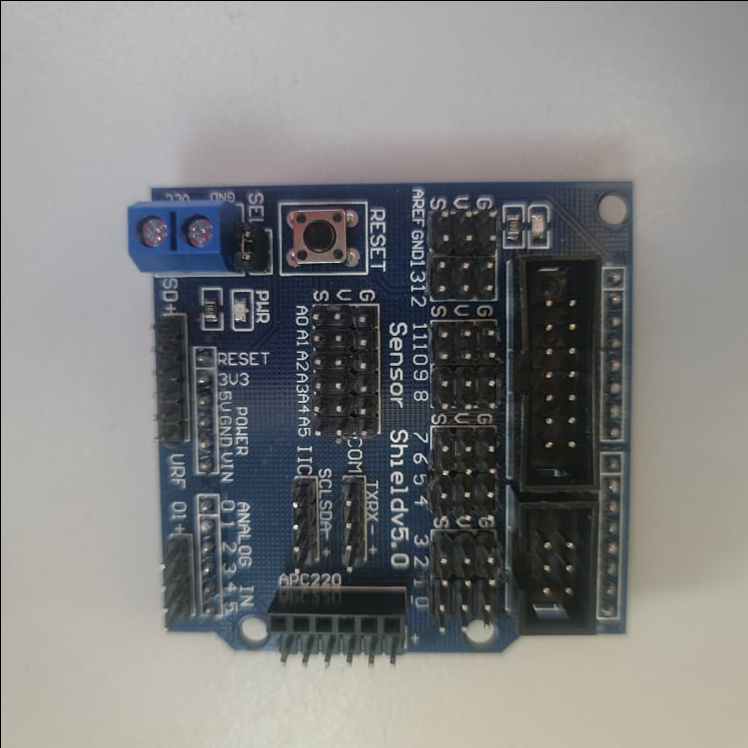5V EXPANSION: (124, 182, 632, 663)
